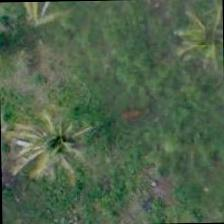Kelapa_Sawit: (5, 92, 97, 184), (153, 0, 223, 80)
